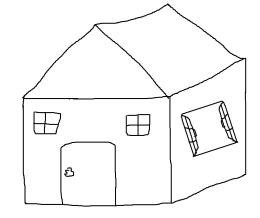closed_window: (33, 112, 61, 134), (126, 113, 151, 136)
door: (56, 136, 119, 210)
open_window: (181, 100, 238, 157)
roof: (22, 3, 245, 100)
wall: (20, 95, 175, 209)
